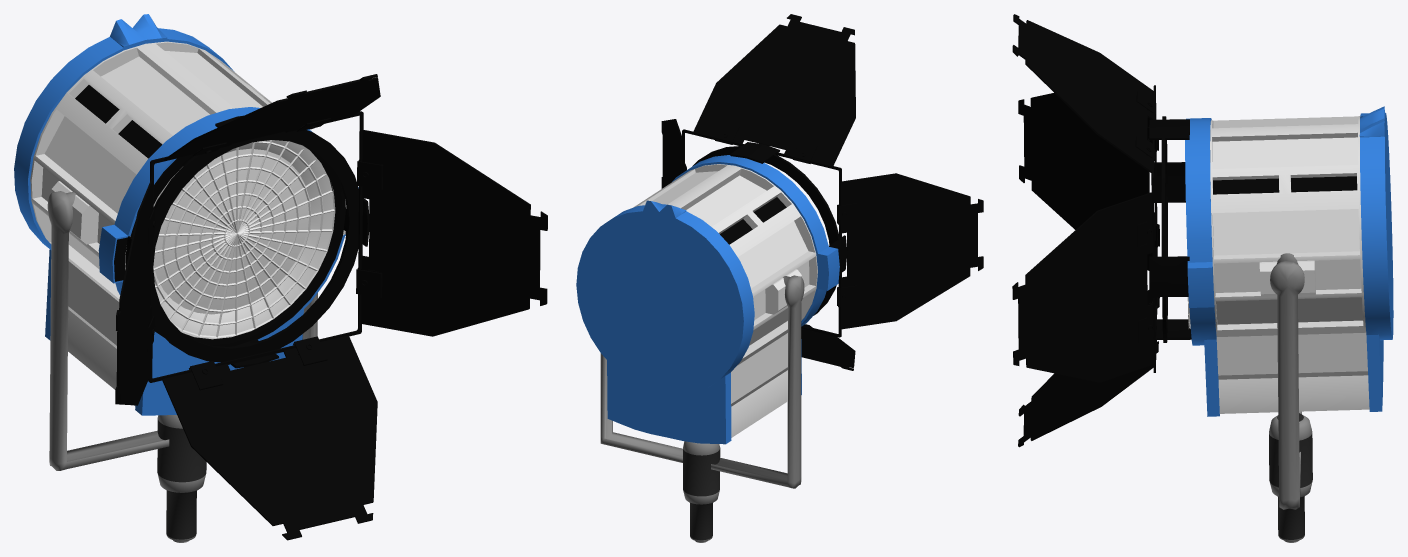
File: SpotLight-1.fbx
3 views of the same model, side by side, from view 1: azimuth 30°, elevation 25°; view 2: azimuth 150°, elevation 25°; view 3: azimuth 270°, elevation 25° (orthographic). The views are drawn at different scales.
Visible parts, largest first — view 1: Light Diffusor, ARRI 650, Trypod; view 2: ARRI 650, Light Diffusor, Trypod; view 3: ARRI 650, Light Diffusor, Trypod.
Part boxes in pixels (x1,y1,x2,y2): Light Diffusor: (115,74,547,540); ARRI 650: (14,14,358,415); Trypod: (47,191,317,542); ARRI 650: (576,155,839,444); Light Diffusor: (661,14,983,370); Trypod: (600,275,804,542); ARRI 650: (1185,106,1393,416); Light Diffusor: (1012,14,1191,447); Trypod: (1269,253,1312,542).
Bounding box in the file's own units: 394 × 501 × 342.
